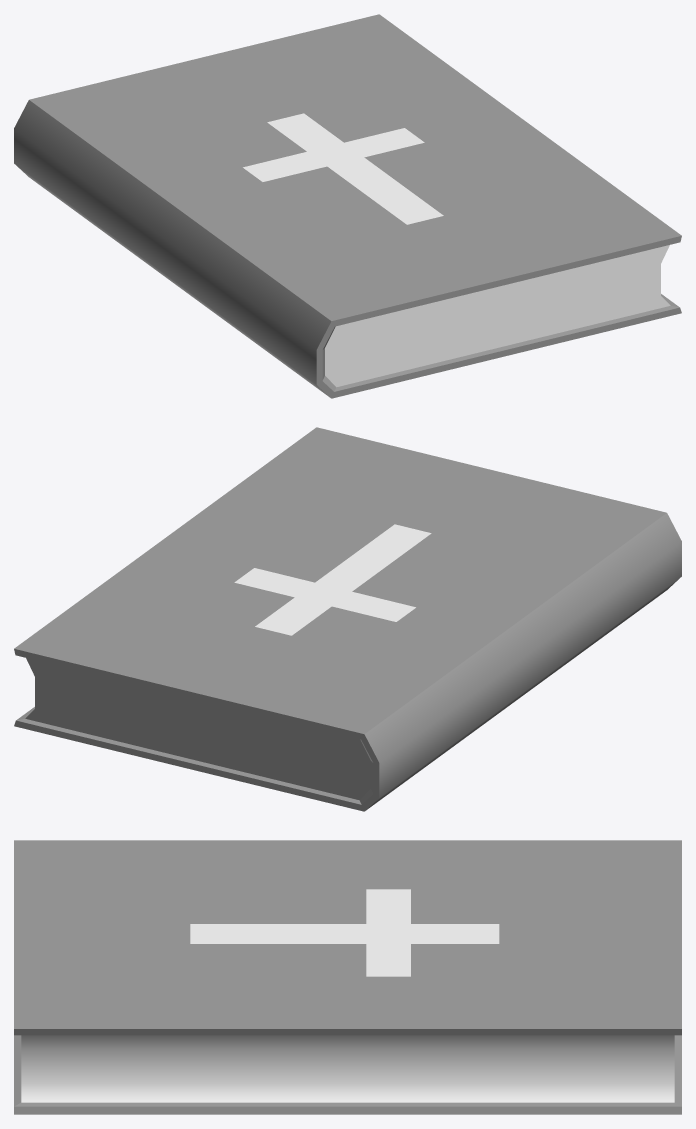
File: PT_Bible_closed.fbx
3 views of the same model, one above another, from view 1: azimuth 30°, elevation 25°; view 2: azimuth 150°, elevation 25°; view 3: azimuth 270°, elevation 25° (orthographic). The views are drawn at different scales.
Visible parts, largest first — view 1: PT_Bible_closed; view 2: PT_Bible_closed; view 3: PT_Bible_closed.
Boxes of the visible parts, x1,y1,x2,y2 form: PT_Bible_closed: [14, 14, 681, 398]; PT_Bible_closed: [14, 427, 681, 811]; PT_Bible_closed: [14, 840, 681, 1114].
Bounding box in the file's own units: 18.51 × 3.75 × 26.56.
